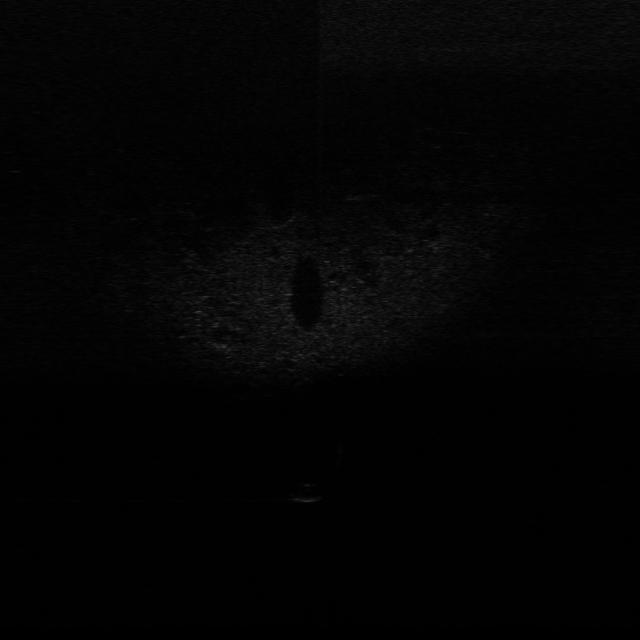ball: (292, 479, 326, 505)
